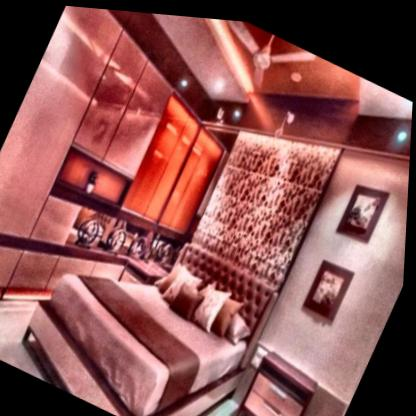Bed: (13, 191, 283, 416)
Frame: (331, 163, 398, 248), (297, 243, 364, 324)
Nightstand: (223, 329, 338, 416)
